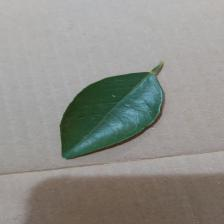healthy: (51, 68, 192, 164)
